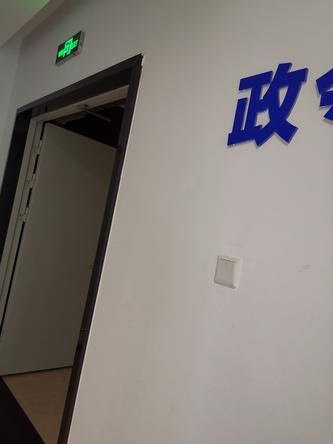switch: (215, 255, 241, 287)
